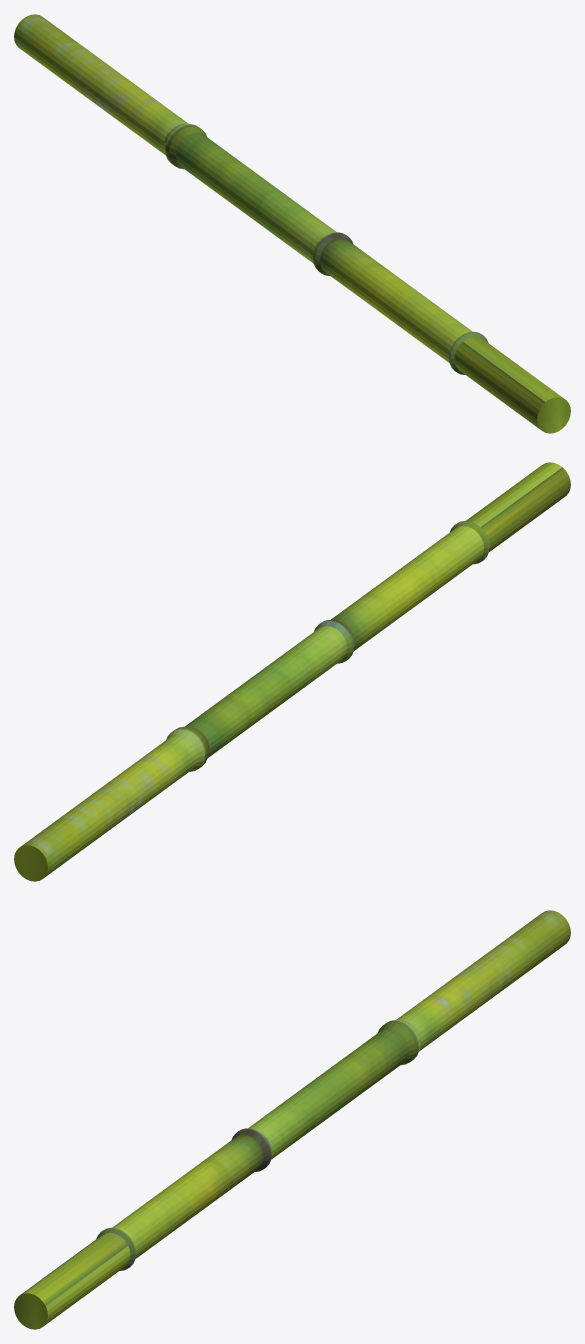
Rendered from BambooCollider.fbx.
The picture shows the model from 3 angles, top to bottom: view 1: azimuth 30°, elevation 25°; view 2: azimuth 150°, elevation 25°; view 3: azimuth 330°, elevation 25°; orthographic projection.
Parts seen in each view (by area): view 1: BambooStraight; view 2: BambooStraight; view 3: BambooStraight.
Part boxes in pixels (left/top/right/bottom): BambooStraight: left=14, top=14, right=570, bottom=433; BambooStraight: left=14, top=462, right=570, bottom=881; BambooStraight: left=14, top=910, right=570, bottom=1329.
Size of the model in its own units: 87.46 by 87.46 by 2000.
